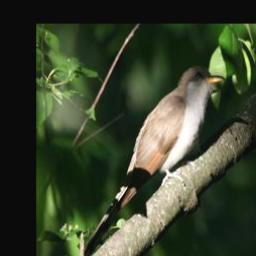Cuckoo: (77, 65, 225, 256)
